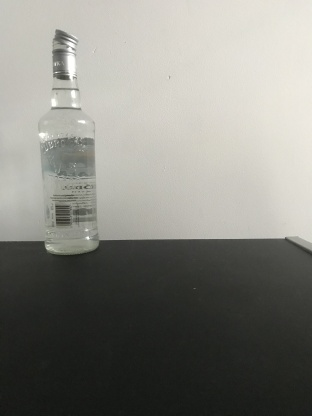nakretka: (50, 27, 80, 80)
